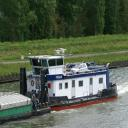tugboat: (19, 45, 121, 118)
